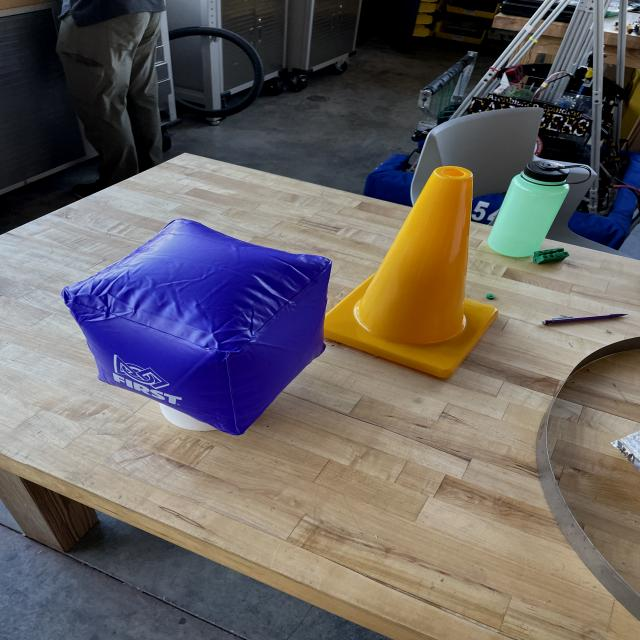frc_cone: (328, 159, 507, 396)
frc_cube: (62, 215, 336, 434)
